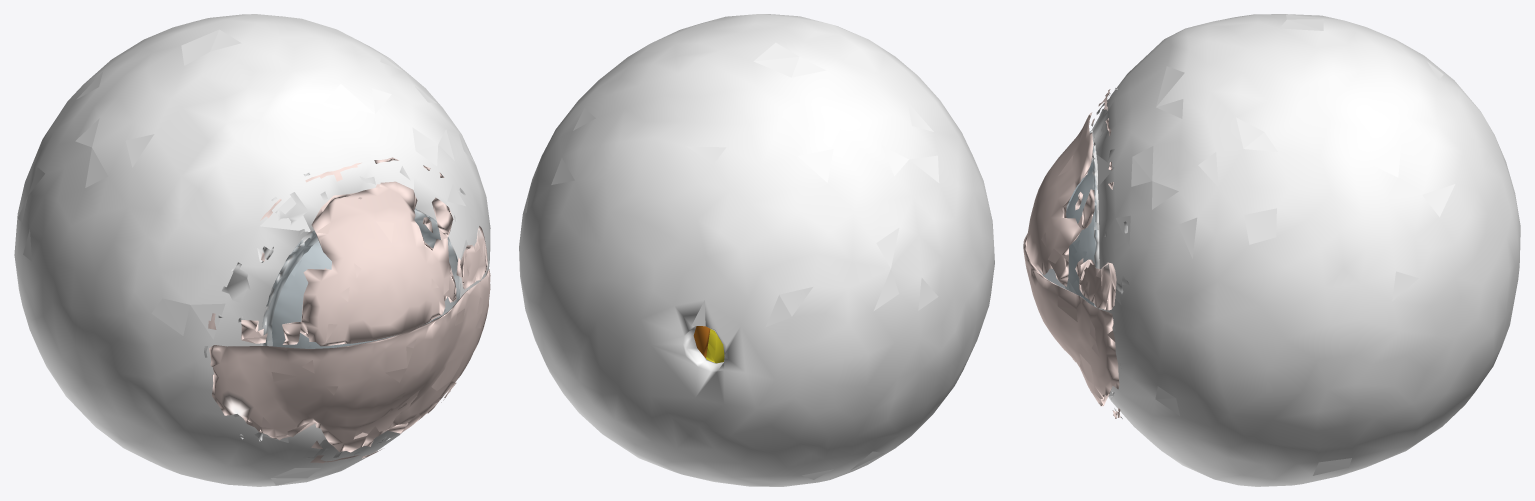
The model's file is 3d-vh-f-eye-l-20.fbx.
The picture shows the model from 3 angles, left to right: view 1: azimuth 30°, elevation 25°; view 2: azimuth 150°, elevation 25°; view 3: azimuth 270°, elevation 25°; orthographic projection.
Parts seen in each view (by area): view 1: VH_F_sclera_L, VH_F_palpebral_conjunctiva_of_left_lower_eyelid, VH_F_palpebral_conjunctiva_of_left_upper_eyelid, VH_F_cornea_L, VH_F_aqueous_humor_L, VH_F_corneo_scleral_junction_L, VH_F_bulbar_conjunctiva_L; view 2: VH_F_sclera_L; view 3: VH_F_sclera_L, VH_F_palpebral_conjunctiva_of_left_upper_eyelid, VH_F_palpebral_conjunctiva_of_left_lower_eyelid, VH_F_cornea_L, VH_F_aqueous_humor_L, VH_F_corneo_scleral_junction_L.
Part boxes in pixels (<box>): VH_F_sclera_L: <box>14,14,490,486</box>; VH_F_palpebral_conjunctiva_of_left_lower_eyelid: <box>209,269,490,463</box>; VH_F_palpebral_conjunctiva_of_left_upper_eyelid: <box>208,157,487,346</box>; VH_F_cornea_L: <box>262,208,460,348</box>; VH_F_aqueous_humor_L: <box>272,241,425,348</box>; VH_F_corneo_scleral_junction_L: <box>262,209,459,346</box>; VH_F_bulbar_conjunctiva_L: <box>204,166,465,458</box>; VH_F_sclera_L: <box>519,14,994,486</box>; VH_F_sclera_L: <box>1091,14,1520,486</box>; VH_F_palpebral_conjunctiva_of_left_upper_eyelid: <box>1026,89,1116,310</box>; VH_F_palpebral_conjunctiva_of_left_lower_eyelid: <box>1023,202,1120,418</box>; VH_F_cornea_L: <box>1038,132,1097,306</box>; VH_F_aqueous_humor_L: <box>1065,169,1095,305</box>; VH_F_corneo_scleral_junction_L: <box>1086,130,1099,308</box>.
Bounding box in the file's own units: 2.45 × 2.44 × 2.58.
